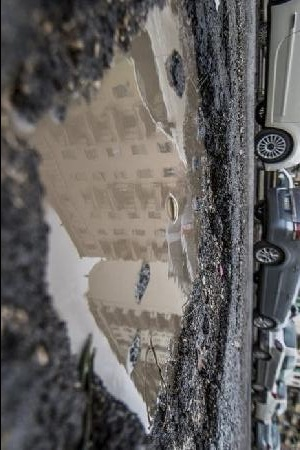pothole: (20, 0, 239, 450)
